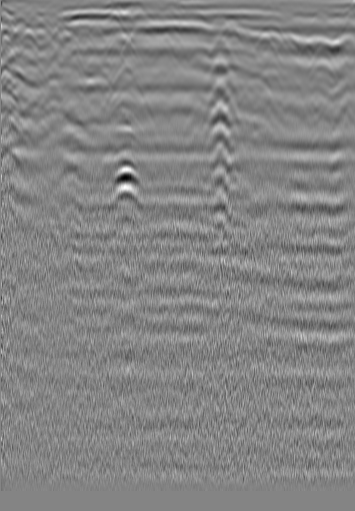가스: (110, 152, 143, 196)
상수: (20, 28, 41, 48)
오수: (278, 32, 298, 52)
우수: (158, 20, 178, 40)
